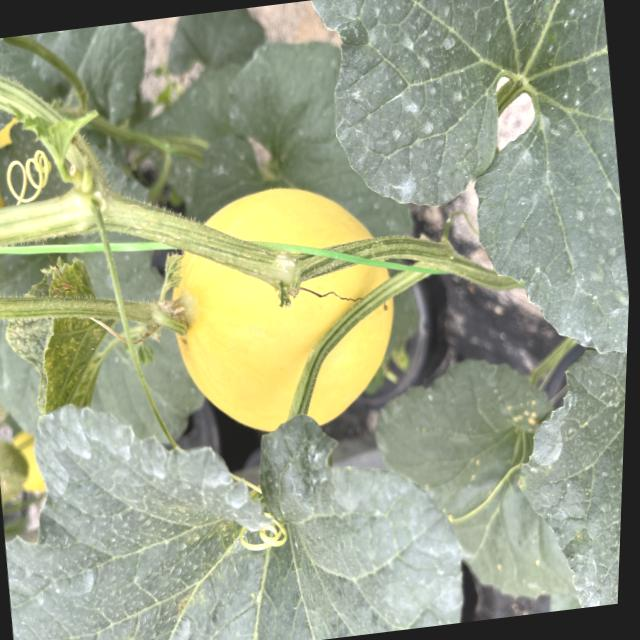CMV: (0, 255, 116, 420)
powdery mildew: (0, 347, 483, 640), (293, 0, 640, 393), (508, 365, 626, 613)
